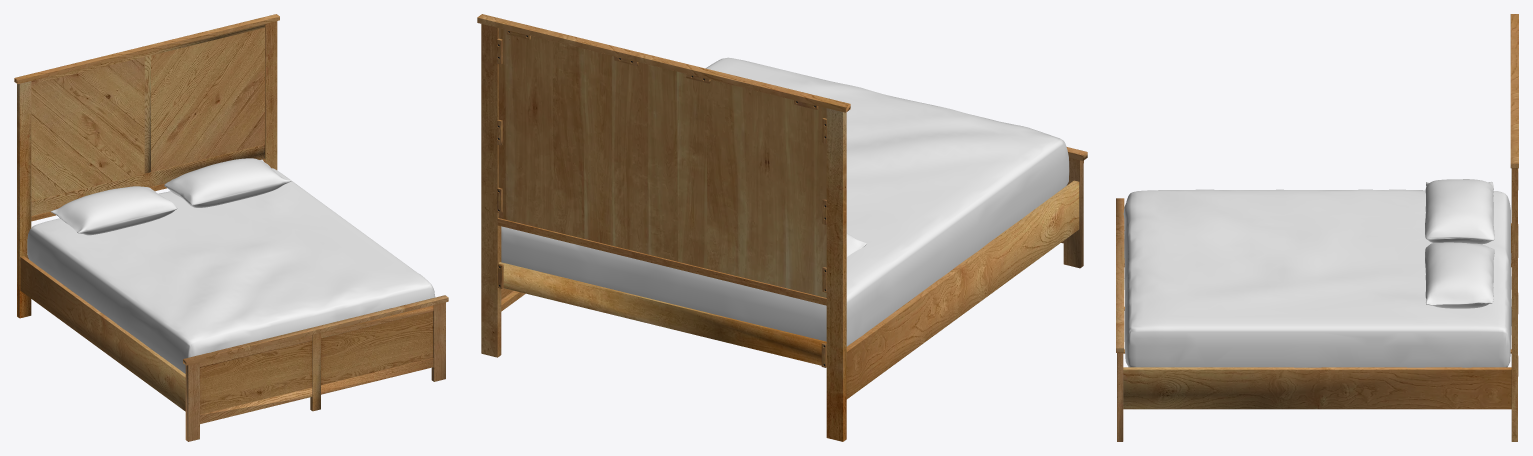
3 renders of one model, left to right at view 1: azimuth 30°, elevation 25°; view 2: azimuth 150°, elevation 25°; view 3: azimuth 270°, elevation 25°, orthographic. The views are drawn at different scales.
Visible parts, largest first — view 1: RootNode; view 2: RootNode; view 3: RootNode.
Part boxes in pixels (<box>): RootNode: <box>14,14,448,441</box>; RootNode: <box>477,14,1087,441</box>; RootNode: <box>1116,14,1518,441</box>.
Bounding box in the file's own units: 2.22 × 1.94 × 2.53.
Materials: 1 (1 with a texture image).
